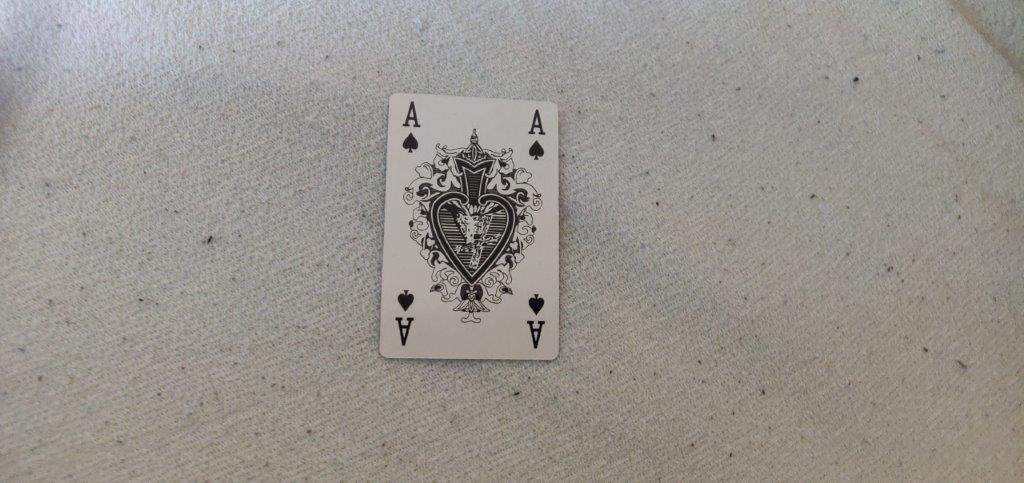AS: (525, 103, 550, 165), (396, 99, 422, 154)
